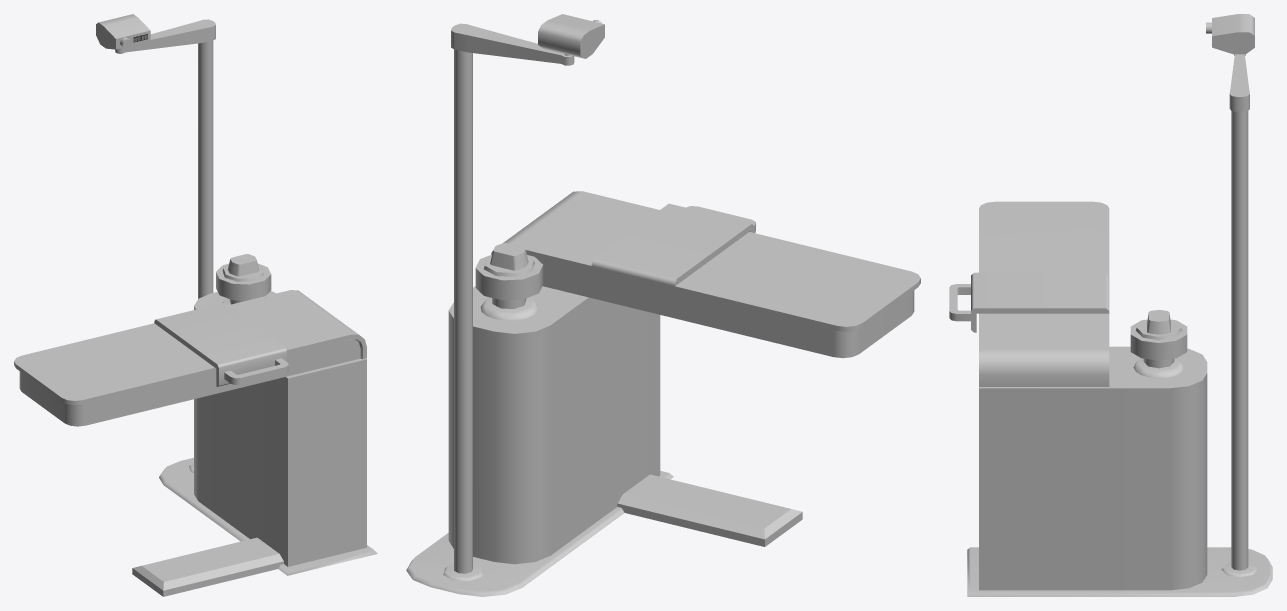
The model's file is Ophthalmology_Table_01.fbx.
The picture shows the model from 3 angles, left to right: view 1: azimuth 30°, elevation 25°; view 2: azimuth 150°, elevation 25°; view 3: azimuth 270°, elevation 25°; orthographic projection. The views are drawn at different scales.
Parts seen in each view (by area): view 1: Ophthalmology_Table_01; view 2: Ophthalmology_Table_01; view 3: Ophthalmology_Table_01.
Boxes of the visible parts, left/top/right/bottom form: Ophthalmology_Table_01: left=14, top=14, right=377, bottom=596; Ophthalmology_Table_01: left=406, top=14, right=920, bottom=596; Ophthalmology_Table_01: left=949, top=14, right=1272, bottom=596.
Size of the model in its own units: 115 by 99.16 by 171.
